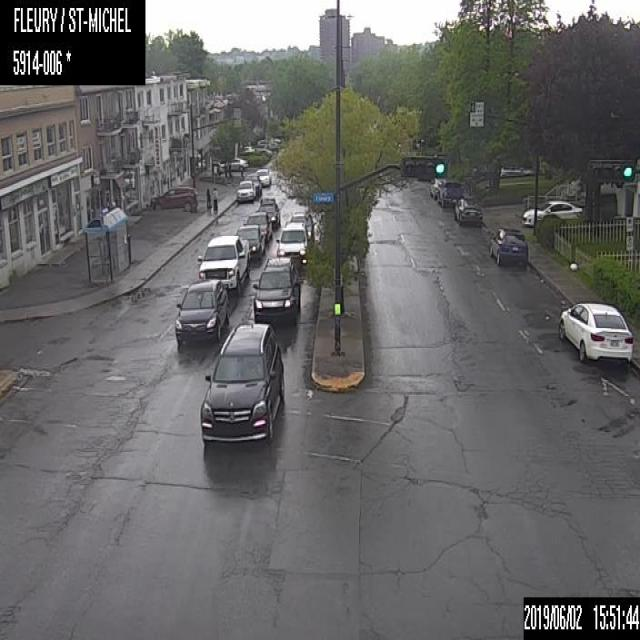pedestrian: (212, 185, 218, 215), (204, 185, 211, 210), (237, 162, 244, 178)
vehicle: (198, 326, 283, 442), (557, 298, 634, 362), (173, 278, 229, 345), (250, 255, 301, 328), (196, 233, 252, 294), (521, 196, 583, 227), (487, 224, 528, 265), (274, 221, 309, 264), (149, 185, 197, 214), (235, 222, 261, 259), (454, 195, 482, 227), (244, 211, 271, 243), (435, 180, 464, 208), (257, 195, 279, 229), (244, 173, 261, 200), (428, 176, 446, 200), (237, 180, 253, 203), (256, 167, 269, 188)
